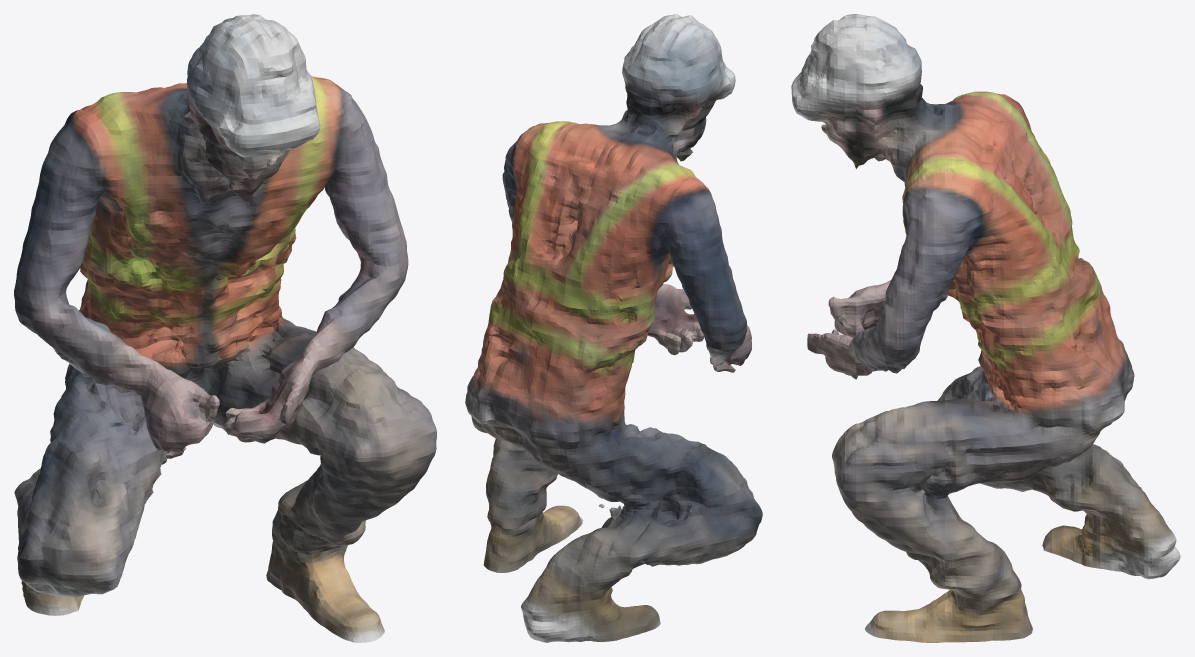
File: standup_2.glb
3 renders of one model, left to right at view 1: azimuth 30°, elevation 25°; view 2: azimuth 150°, elevation 25°; view 3: azimuth 270°, elevation 25°, orthographic. The views are drawn at different scales.
Parts seen in each view (by area): view 1: world; view 2: world; view 3: world.
Boxes of the visible parts, left/top/right/bottom form: world: left=14, top=14, right=436, bottom=642; world: left=465, top=14, right=762, bottom=642; world: left=791, top=14, right=1180, bottom=642.
Size of the model in its own units: 0.7351 by 1.31 by 0.8266.
